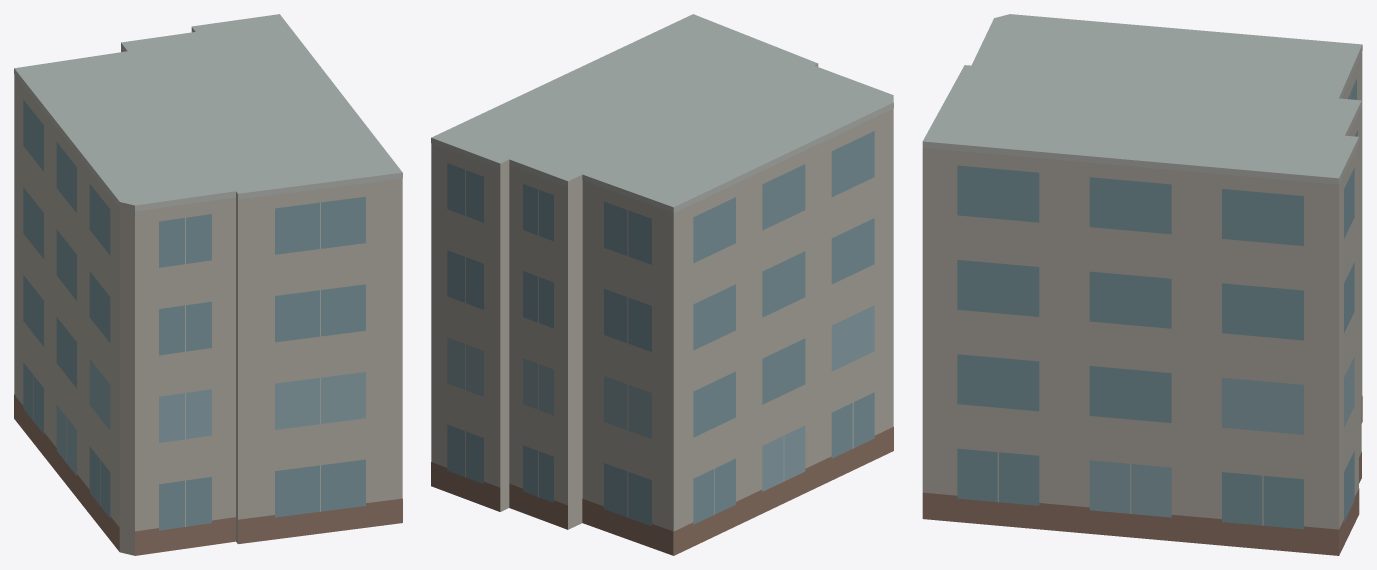
File: survey-upis-32619588.glb
The picture shows the model from 3 angles, left to right: view 1: azimuth 30°, elevation 25°; view 2: azimuth 150°, elevation 25°; view 3: azimuth 270°, elevation 25°; orthographic projection. The views are drawn at different scales.
Parts seen in each view (by area): view 1: survey-upis-32619588.tmp; view 2: survey-upis-32619588.tmp; view 3: survey-upis-32619588.tmp.
Part boxes in pixels (<box>): survey-upis-32619588.tmp: <box>14,14,402,555</box>; survey-upis-32619588.tmp: <box>431,14,893,555</box>; survey-upis-32619588.tmp: <box>922,14,1362,555</box>.
Bounding box in the file's own units: 13.64 × 14.6 × 15.43.
